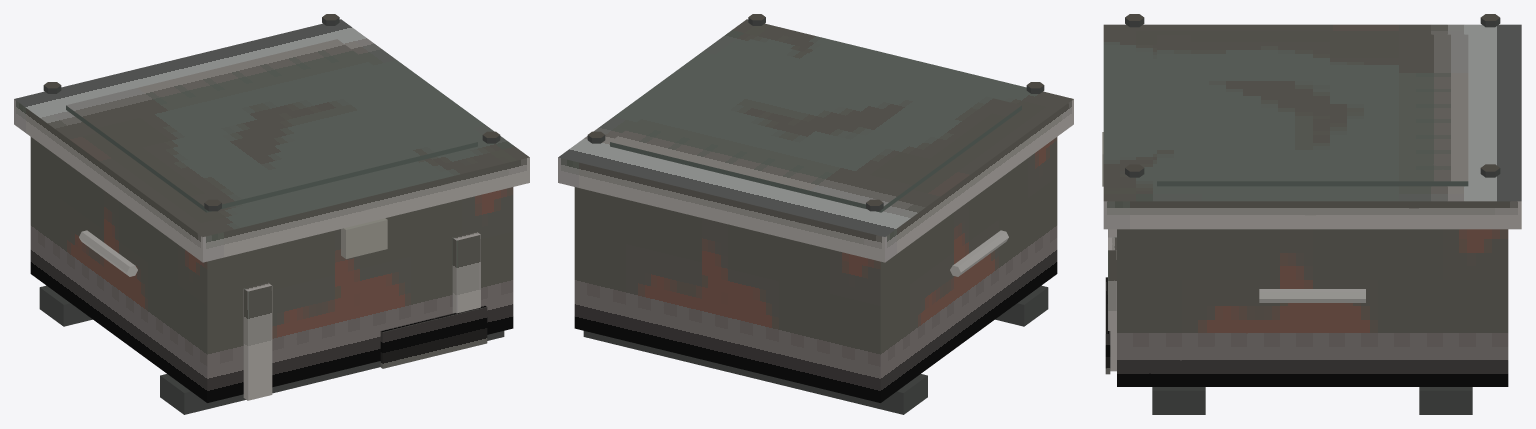
Rendered from Building_AncientLongCrate.glb.
3 views of the same model, side by side, from view 1: azimuth 30°, elevation 25°; view 2: azimuth 150°, elevation 25°; view 3: azimuth 270°, elevation 25° (orthographic). The views are drawn at different scales.
Visible parts, largest first — view 1: AncientLongCrate; view 2: AncientLongCrate; view 3: AncientLongCrate.
Part boxes in pixels (left/top/right/bottom): AncientLongCrate: left=14, top=14, right=529, bottom=414; AncientLongCrate: left=558, top=14, right=1073, bottom=414; AncientLongCrate: left=1102, top=14, right=1521, bottom=414.
Size of the model in its own units: 0.972 by 0.585 by 0.9425.
1 material, 1 textured.
